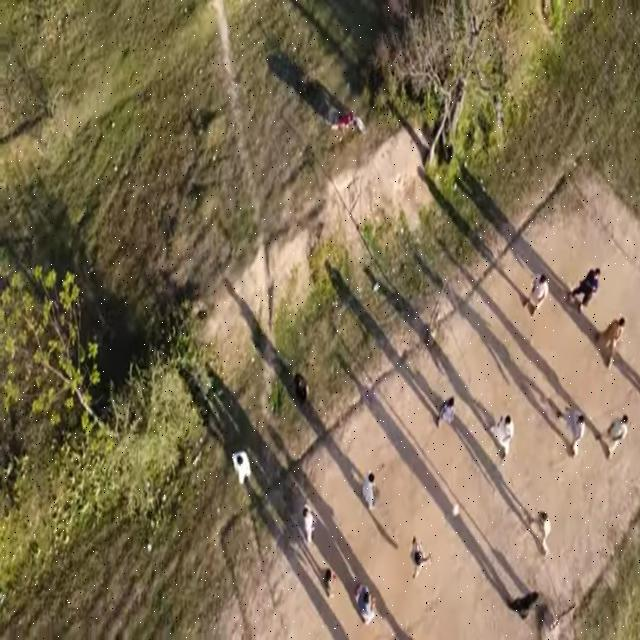humans: (565, 258, 605, 315), (592, 311, 626, 372), (597, 406, 629, 466), (554, 403, 586, 460), (485, 409, 515, 464), (522, 267, 552, 317), (508, 582, 545, 621), (406, 534, 434, 583), (528, 507, 553, 557), (352, 578, 377, 628), (432, 391, 460, 434), (358, 470, 379, 514), (298, 501, 317, 546), (231, 448, 252, 486), (321, 565, 336, 603)
